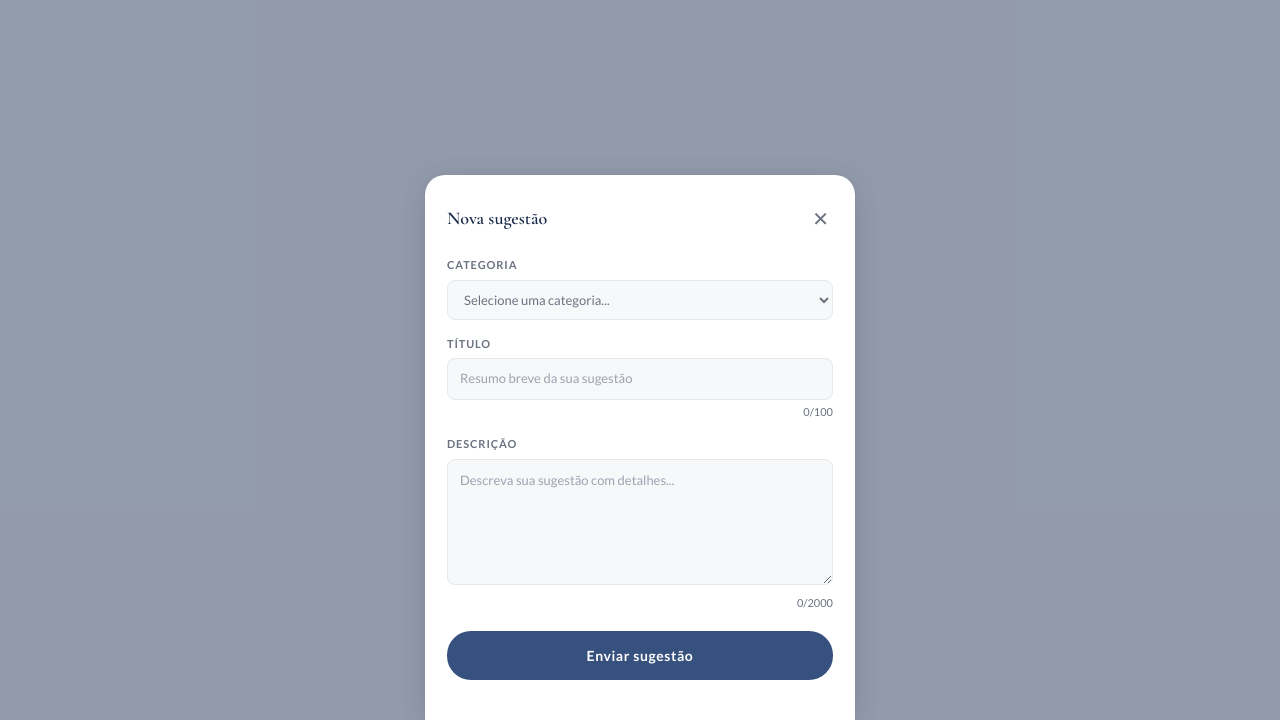
Test case: NewFeedbackModal › shows validation errors when submitting empty form
Click the button with test id "submit-feedback-btn". click: click(640, 656)
box: [447,631,833,680]
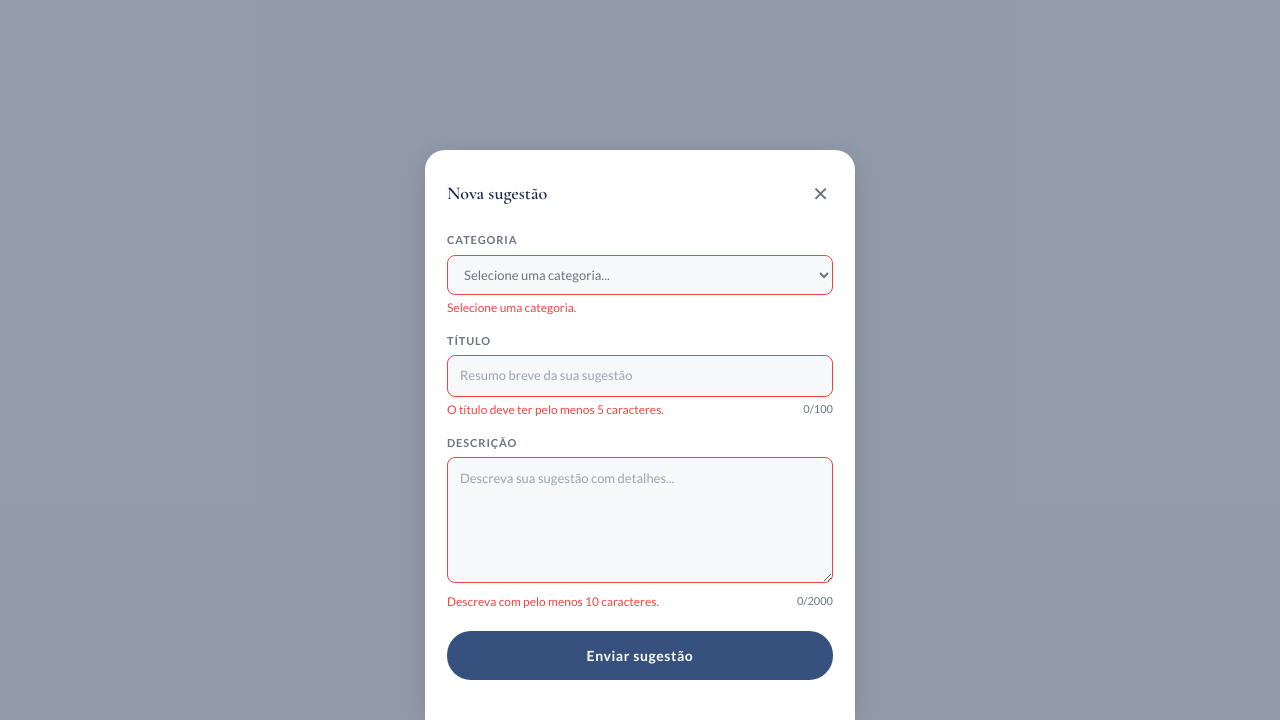
Expected: the message "Selecione uma categoria." is shown, [447,300,576,314]
